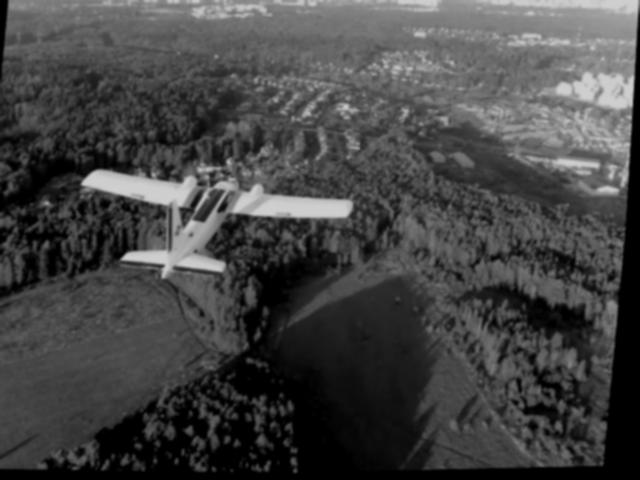hedef: (37, 159, 373, 291)
